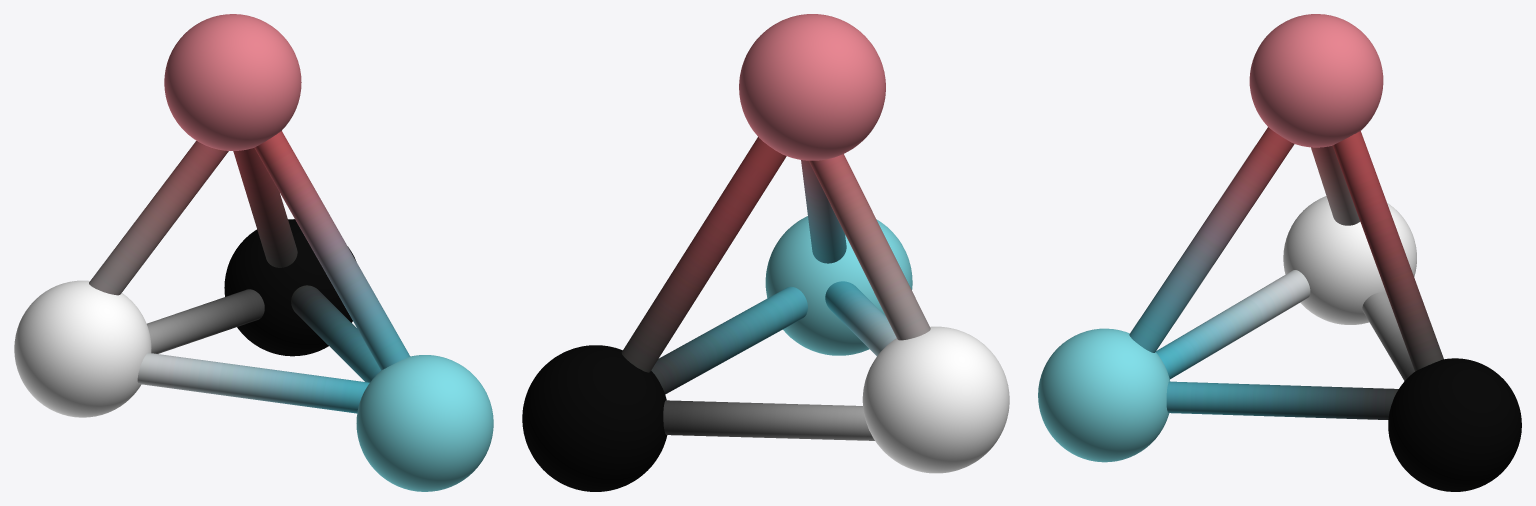
3 renders of one model, left to right at view 1: azimuth 30°, elevation 25°; view 2: azimuth 150°, elevation 25°; view 3: azimuth 270°, elevation 25°, orthographic. The views are drawn at different scales.
Parts seen in each view (by area): view 1: 007_Sphere_2, 009_Sphere, 006_Sphere_3, 002_Cylinder_2, 008_Sphere_1, 003_Cylinder_5, 001_Cylinder_1, 004_Cylinder_3, 000_Cylinder_4, 005_Cylinder; view 2: 009_Sphere, 006_Sphere_3, 008_Sphere_1, 000_Cylinder_4, 007_Sphere_2, 004_Cylinder_3, 001_Cylinder_1, 005_Cylinder, 003_Cylinder_5, 002_Cylinder_2; view 3: 008_Sphere_1, 009_Sphere, 007_Sphere_2, 006_Sphere_3, 002_Cylinder_2, 000_Cylinder_4, 005_Cylinder, 003_Cylinder_5, 004_Cylinder_3, 001_Cylinder_1.
Boxes of the visible parts, bbox=[...] form: 007_Sphere_2: bbox=[356, 355, 493, 491]; 009_Sphere: bbox=[164, 14, 301, 150]; 006_Sphere_3: bbox=[14, 280, 151, 417]; 002_Cylinder_2: bbox=[254, 131, 410, 370]; 008_Sphere_1: bbox=[224, 219, 356, 356]; 003_Cylinder_5: bbox=[137, 353, 369, 413]; 001_Cylinder_1: bbox=[89, 141, 228, 295]; 004_Cylinder_3: bbox=[147, 289, 264, 353]; 000_Cylinder_4: bbox=[233, 148, 297, 267]; 005_Cylinder: bbox=[291, 285, 380, 382]; 009_Sphere: bbox=[739, 14, 885, 160]; 006_Sphere_3: bbox=[862, 326, 1009, 473]; 008_Sphere_1: bbox=[522, 345, 667, 491]; 000_Cylinder_4: bbox=[621, 137, 786, 372]; 007_Sphere_2: bbox=[765, 216, 912, 355]; 004_Cylinder_3: bbox=[663, 400, 874, 440]; 001_Cylinder_1: bbox=[809, 154, 930, 340]; 005_Cylinder: bbox=[651, 286, 807, 394]; 003_Cylinder_5: bbox=[825, 281, 896, 355]; 002_Cylinder_2: bbox=[801, 160, 846, 263]; 008_Sphere_1: bbox=[1388, 358, 1521, 491]; 009_Sphere: bbox=[1249, 14, 1383, 147]; 007_Sphere_2: bbox=[1038, 328, 1170, 462]; 006_Sphere_3: bbox=[1283, 196, 1416, 324]; 002_Cylinder_2: bbox=[1129, 127, 1294, 352]; 000_Cylinder_4: bbox=[1332, 131, 1443, 371]; 005_Cylinder: bbox=[1166, 381, 1398, 419]; 003_Cylinder_5: bbox=[1156, 270, 1310, 379]; 004_Cylinder_3: bbox=[1362, 292, 1414, 380]; 001_Cylinder_1: bbox=[1311, 145, 1360, 225].
Size of the model in its own units: 340 by 351 by 382.
Materials: 10 (6 with a texture image).
